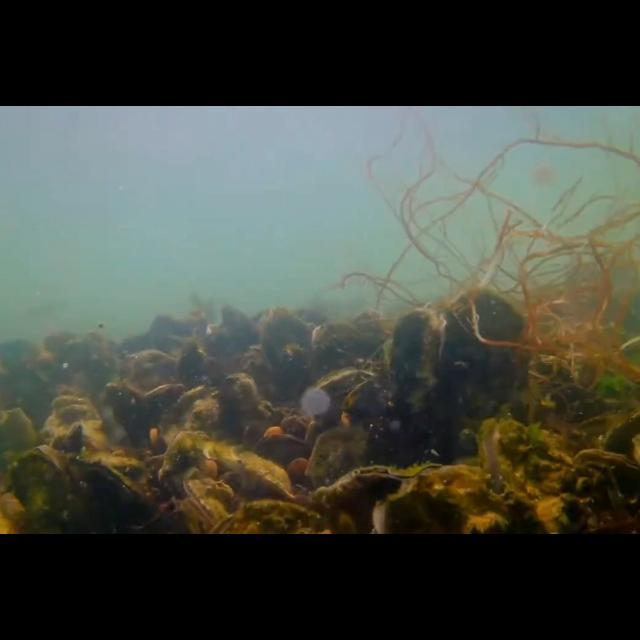Oyster-Closed: (438, 286, 526, 416), (560, 448, 640, 534), (10, 444, 80, 534), (388, 309, 446, 416), (306, 426, 372, 489), (158, 430, 208, 506), (104, 380, 154, 452), (0, 407, 38, 481), (237, 452, 295, 498), (56, 421, 82, 452)
Oyster-Open: (474, 414, 574, 534), (68, 456, 156, 534), (304, 368, 380, 428), (183, 478, 227, 534), (171, 384, 221, 428)
